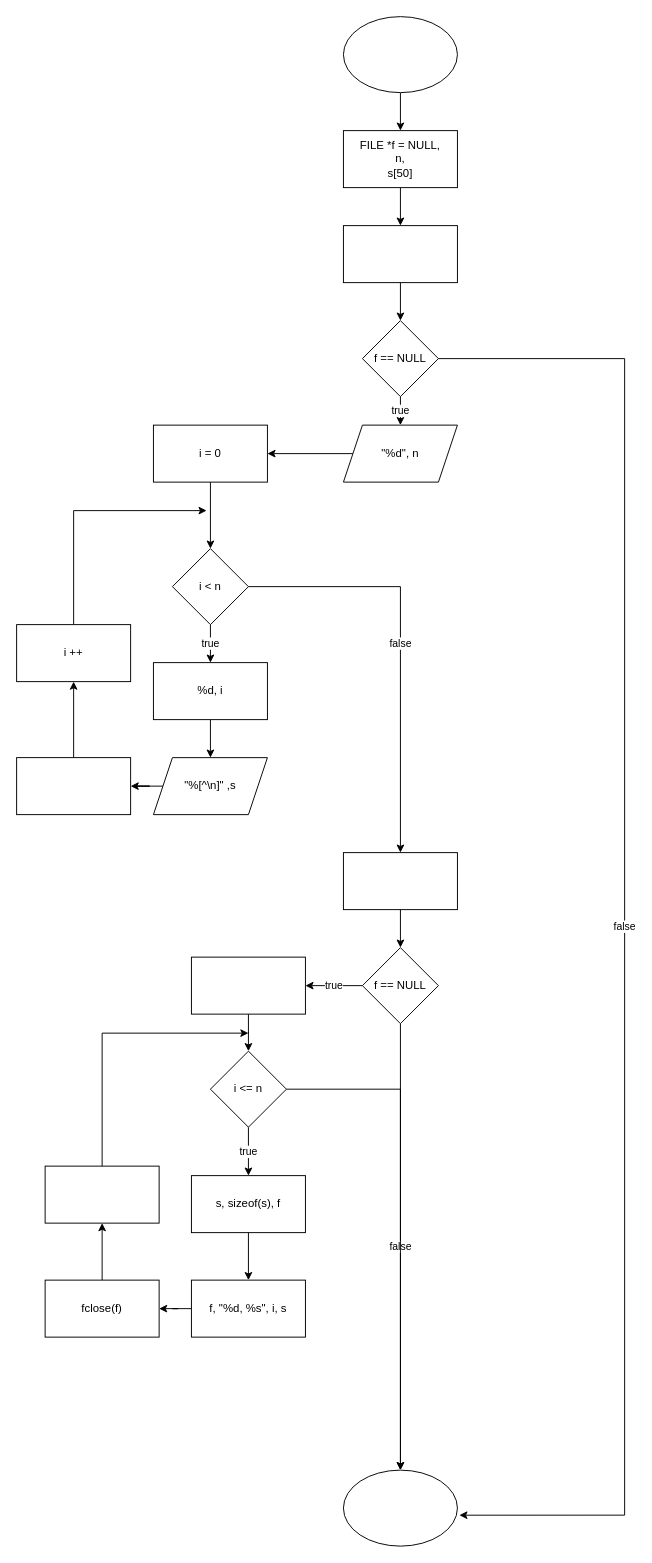
Image size: 652x1563. Some labels were removed from this diagram. The shapes that lost their labels are listed below. From the top down, each one's centre as x and y in pixels, then its label:
point (399, 54): Start
point (399, 254): f = fopen("w+")
point (73, 786): f, "%s\n", s
point (399, 881): f = fopen("r+)
point (247, 985): i = 1
point (101, 1194): i++
point (399, 1507): End
